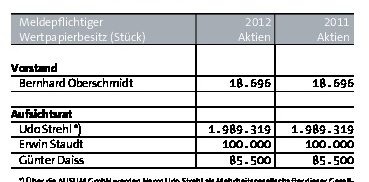table: (0, 0, 369, 182)
